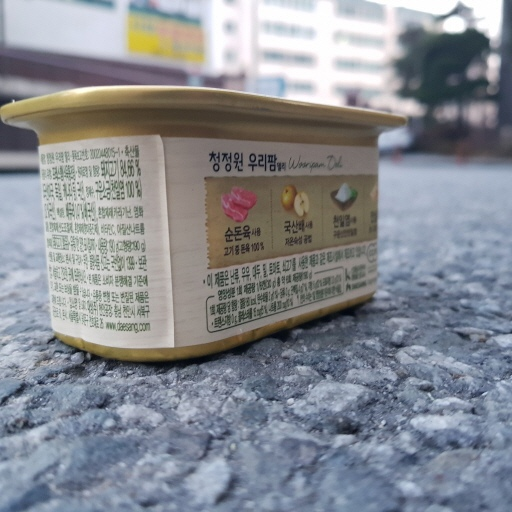Metal_2: (1, 82, 409, 361)
